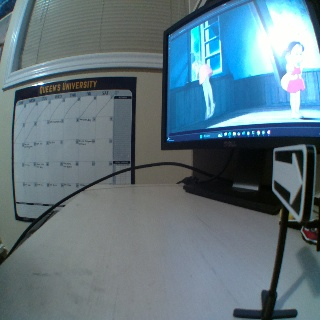sign_oneway_right: (273, 146, 315, 222)
